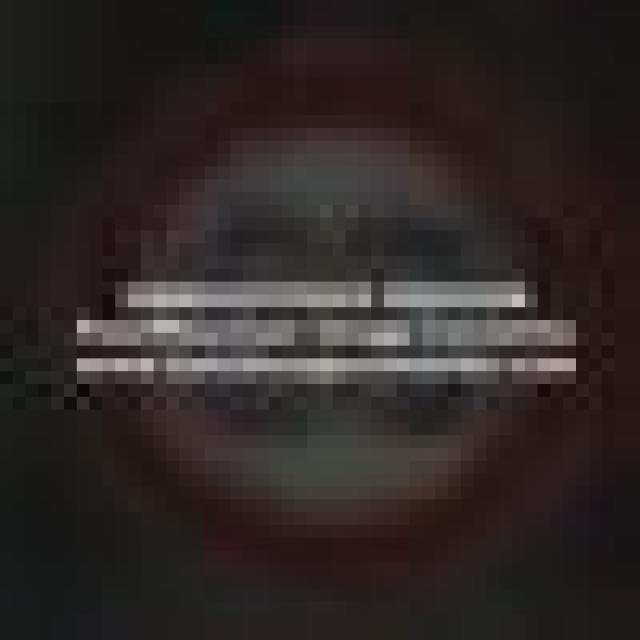speed_limit_50: (38, 64, 589, 538)
